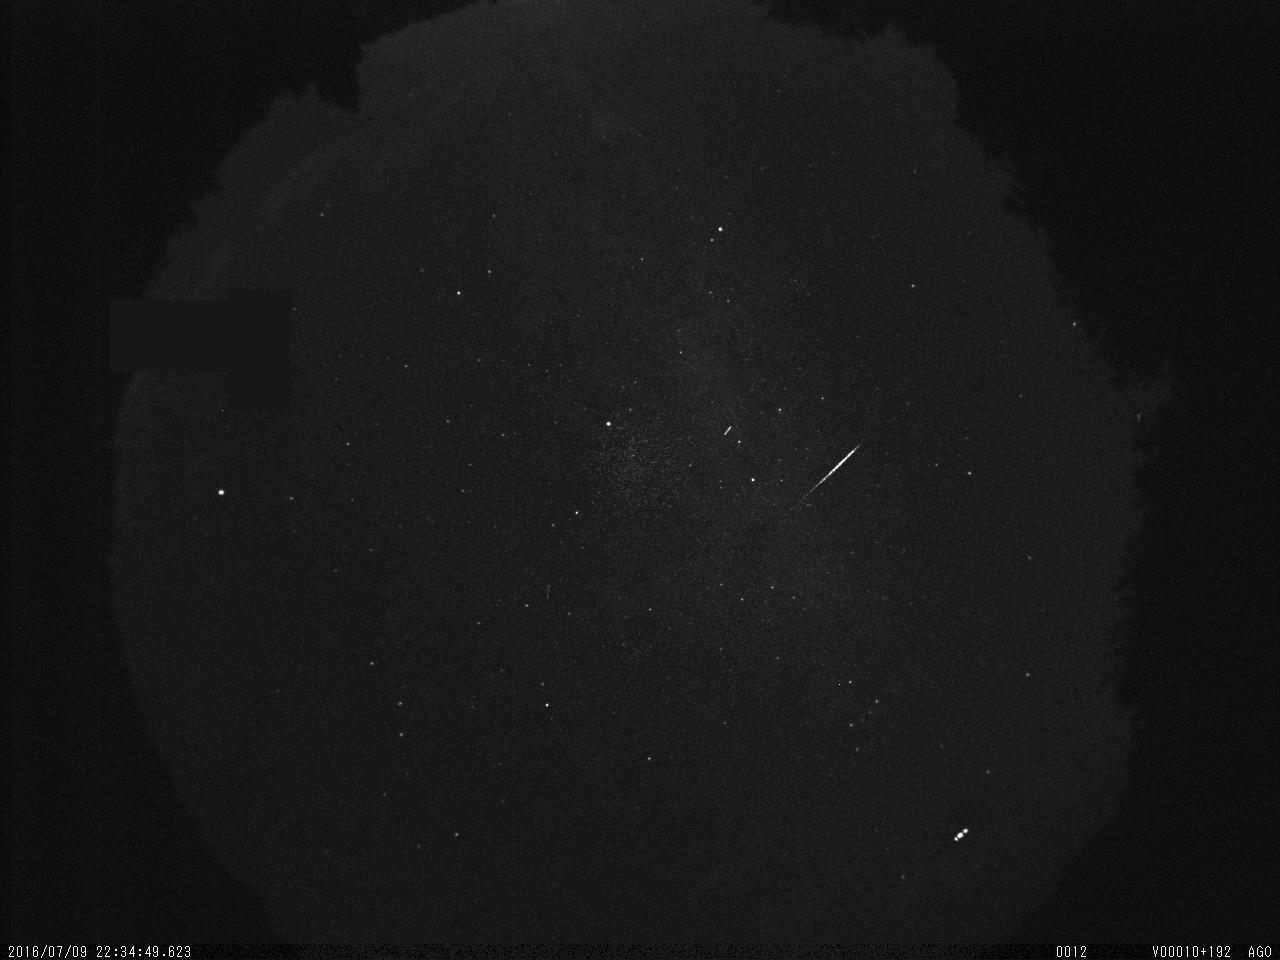meteor: (788, 427, 872, 514)
satelite: (951, 824, 973, 850)
